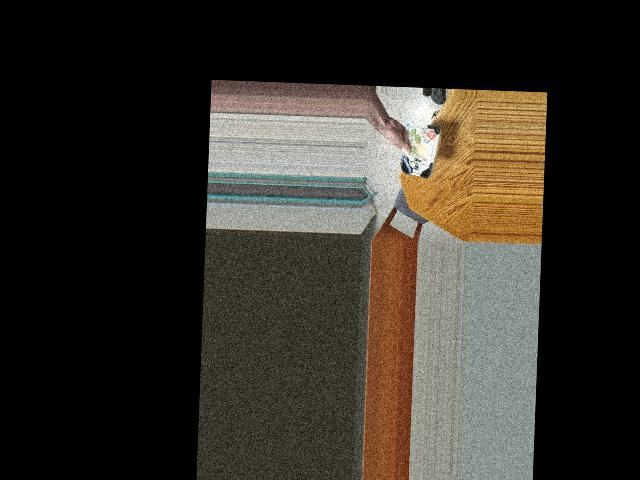cheese: (399, 130, 437, 180)
